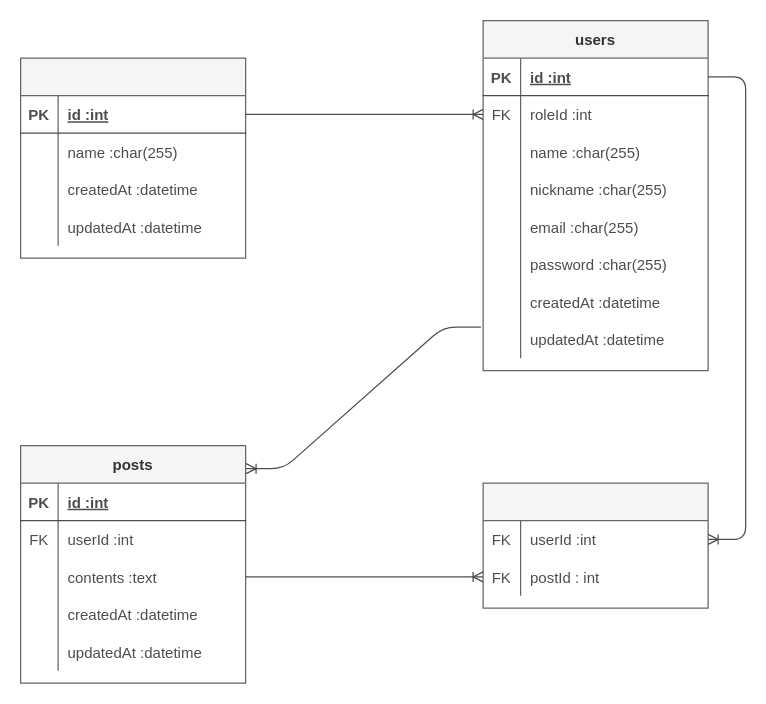
This 766x704 diagram has some shape labels left out. The shapes that lost their labels are listed below. From the top down, each one's box as (x1, y1, x2, y2) in pixels, then its label:
(19, 57, 246, 258): roles
(482, 482, 708, 608): likes
